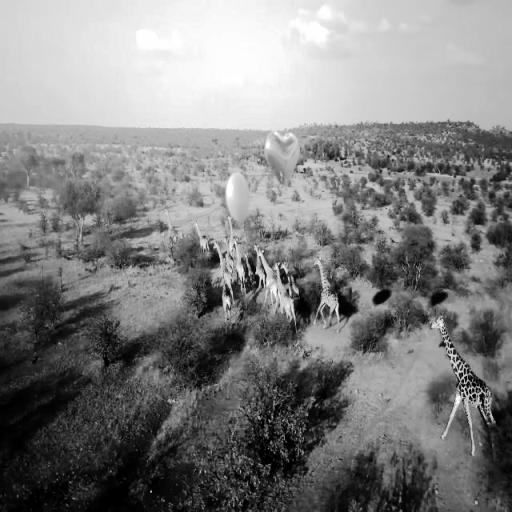balloon: (264, 133, 299, 187), (225, 174, 251, 226)
